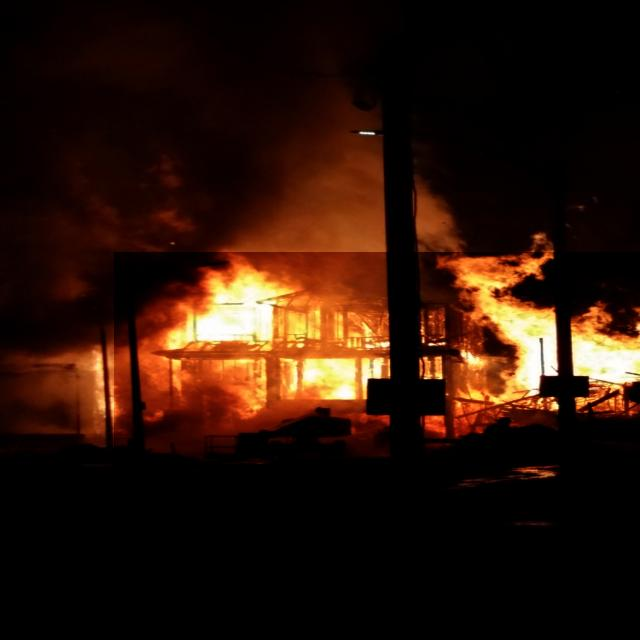Fire: (114, 252, 640, 470)
